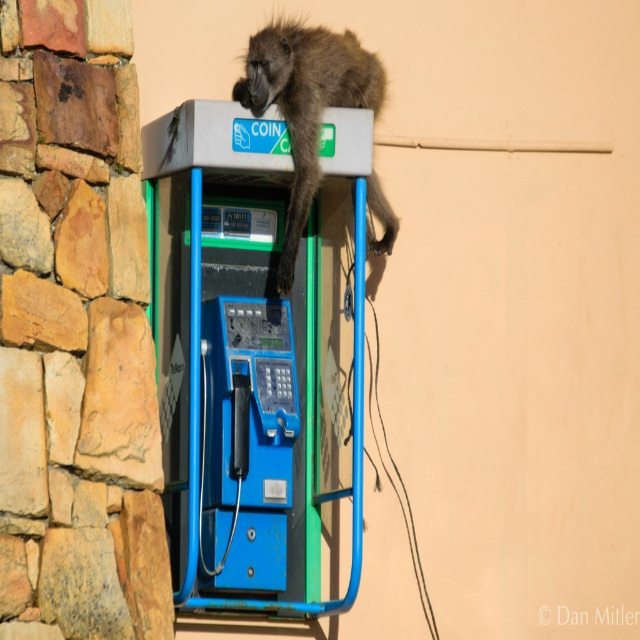Monkey: (229, 1, 383, 327)
